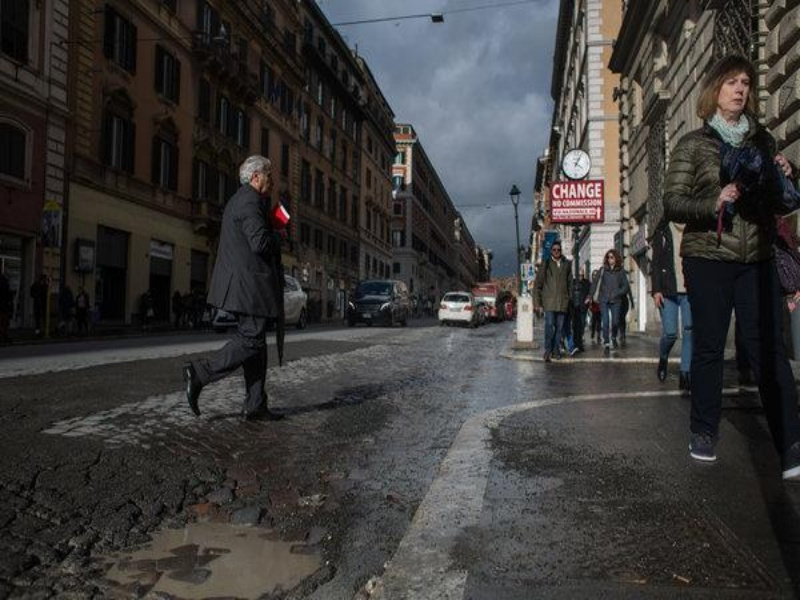pothole: (41, 489, 340, 600)
